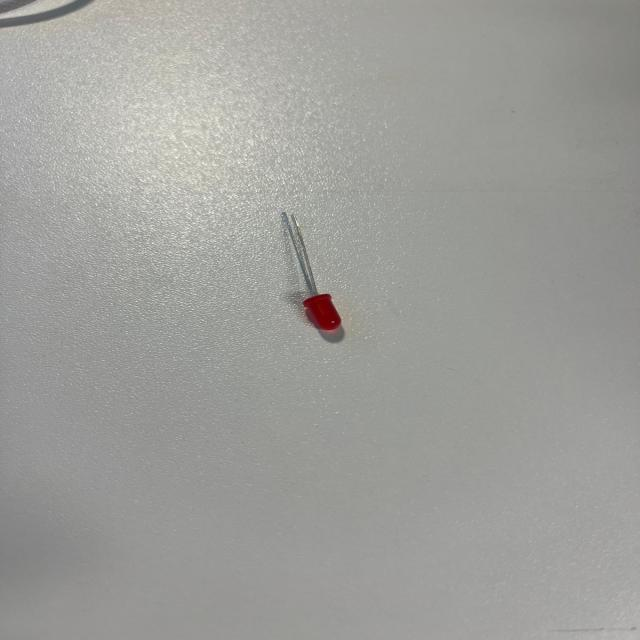REDLed: (260, 210, 373, 376)
